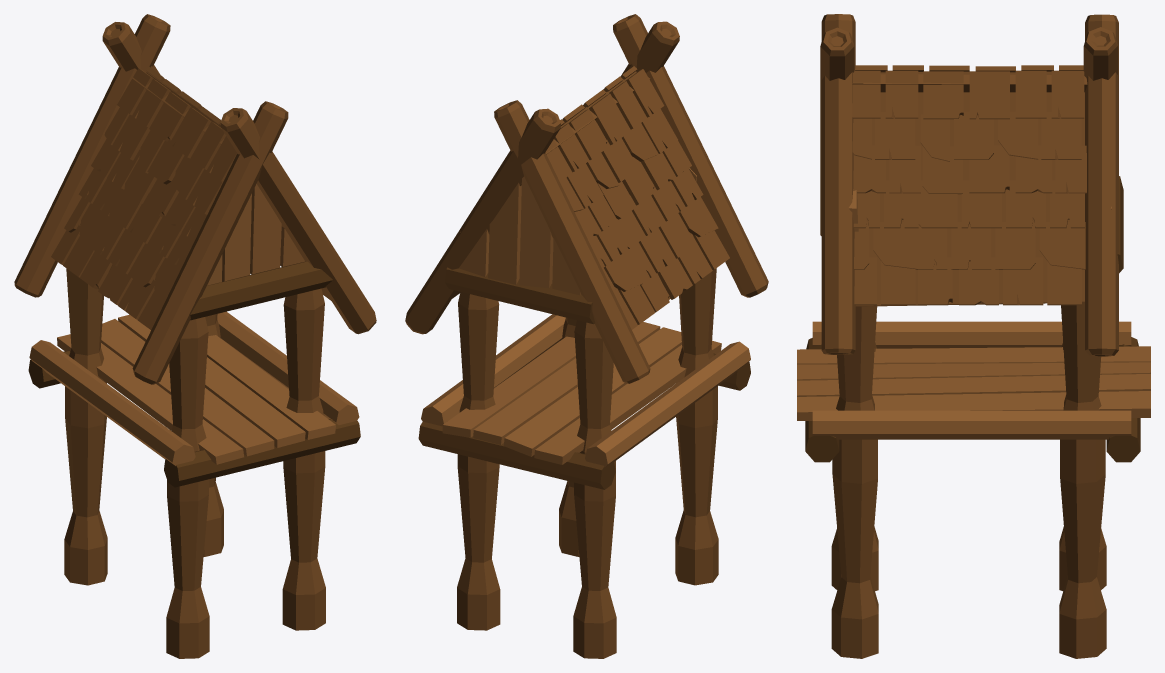
Rendered from B_B_TowerWood.fbx.
3 renders of one model, left to right at view 1: azimuth 30°, elevation 25°; view 2: azimuth 150°, elevation 25°; view 3: azimuth 270°, elevation 25°, orthographic. The views are drawn at different scales.
Parts seen in each view (by area): view 1: B_B_TowerWood; view 2: B_B_TowerWood; view 3: B_B_TowerWood.
Boxes of the visible parts, bbox=[...] form: B_B_TowerWood: bbox=[14, 14, 376, 658]; B_B_TowerWood: bbox=[405, 14, 768, 658]; B_B_TowerWood: bbox=[797, 14, 1150, 658].
Bounding box in the file's own units: 345 × 733 × 394.
